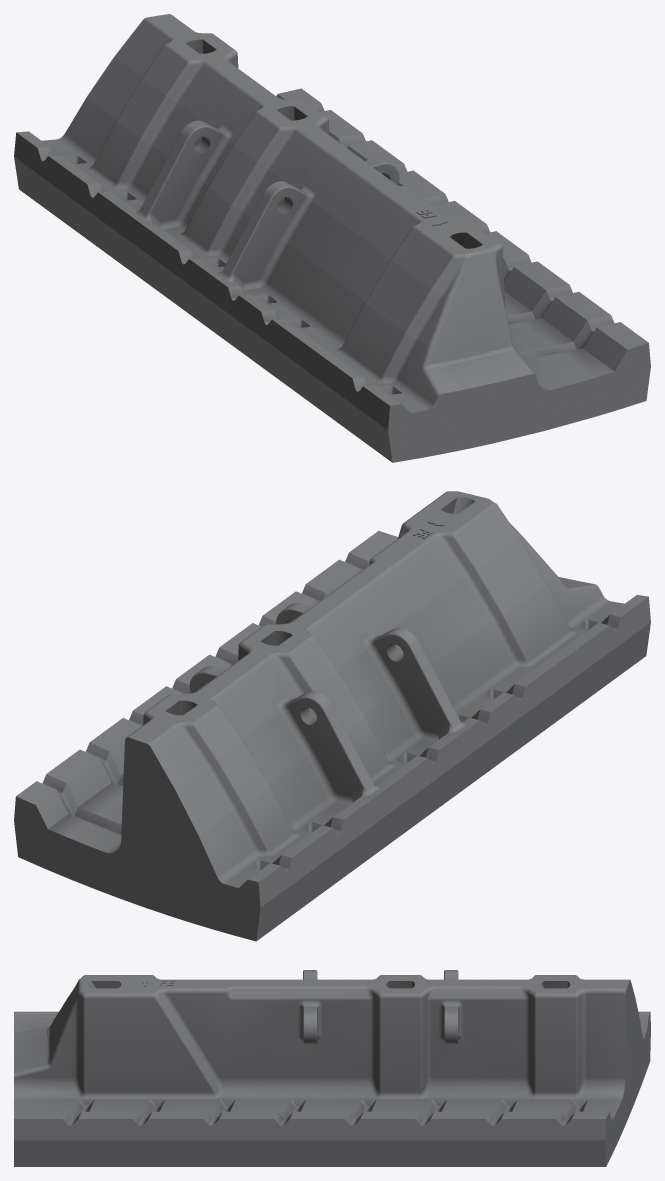
Rendered from mining-metal-sag-shell-liner.glb.
3 renders of one model, top to bottom at view 1: azimuth 30°, elevation 25°; view 2: azimuth 150°, elevation 25°; view 3: azimuth 270°, elevation 25°, orthographic. The views are drawn at different scales.
Parts seen in each view (by area): view 1: metal; view 2: metal; view 3: metal.
Part boxes in pixels (x1,y1,x2,y2): metal: (14,14,650,462); metal: (14,491,650,941); metal: (14,970,650,1166).
Bounding box in the file's own units: 0.9163 × 0.528 × 2.26.
Materials: 1 (1 with a texture image).
